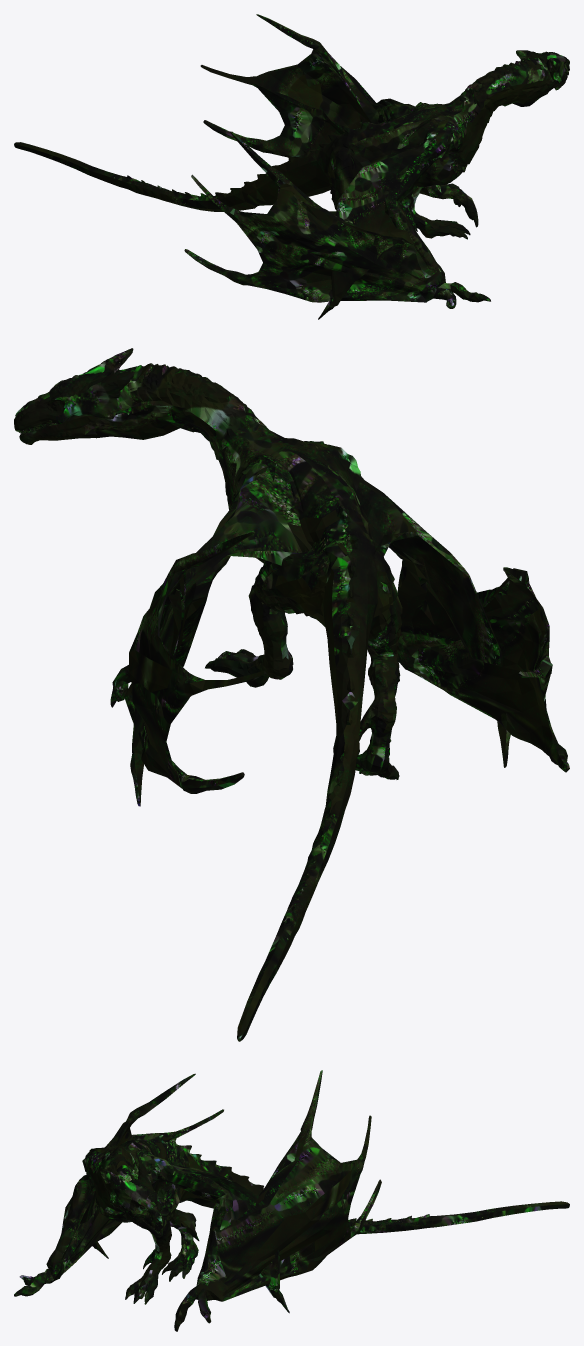
Rendered from frame_0036_uv.obj.
3 renders of one model, top to bottom at view 1: azimuth 30°, elevation 25°; view 2: azimuth 150°, elevation 25°; view 3: azimuth 270°, elevation 25°, orthographic. The views are drawn at different scales.
Visible parts, largest first — view 1: pMesh1; view 2: pMesh1; view 3: pMesh1.
Part boxes in pixels (x1,y1,x2,y2): pMesh1: [14, 14, 569, 319]; pMesh1: [14, 348, 569, 1041]; pMesh1: [14, 1070, 569, 1331].
Bounding box in the file's own units: 1.43 × 0.805 × 1.92.
